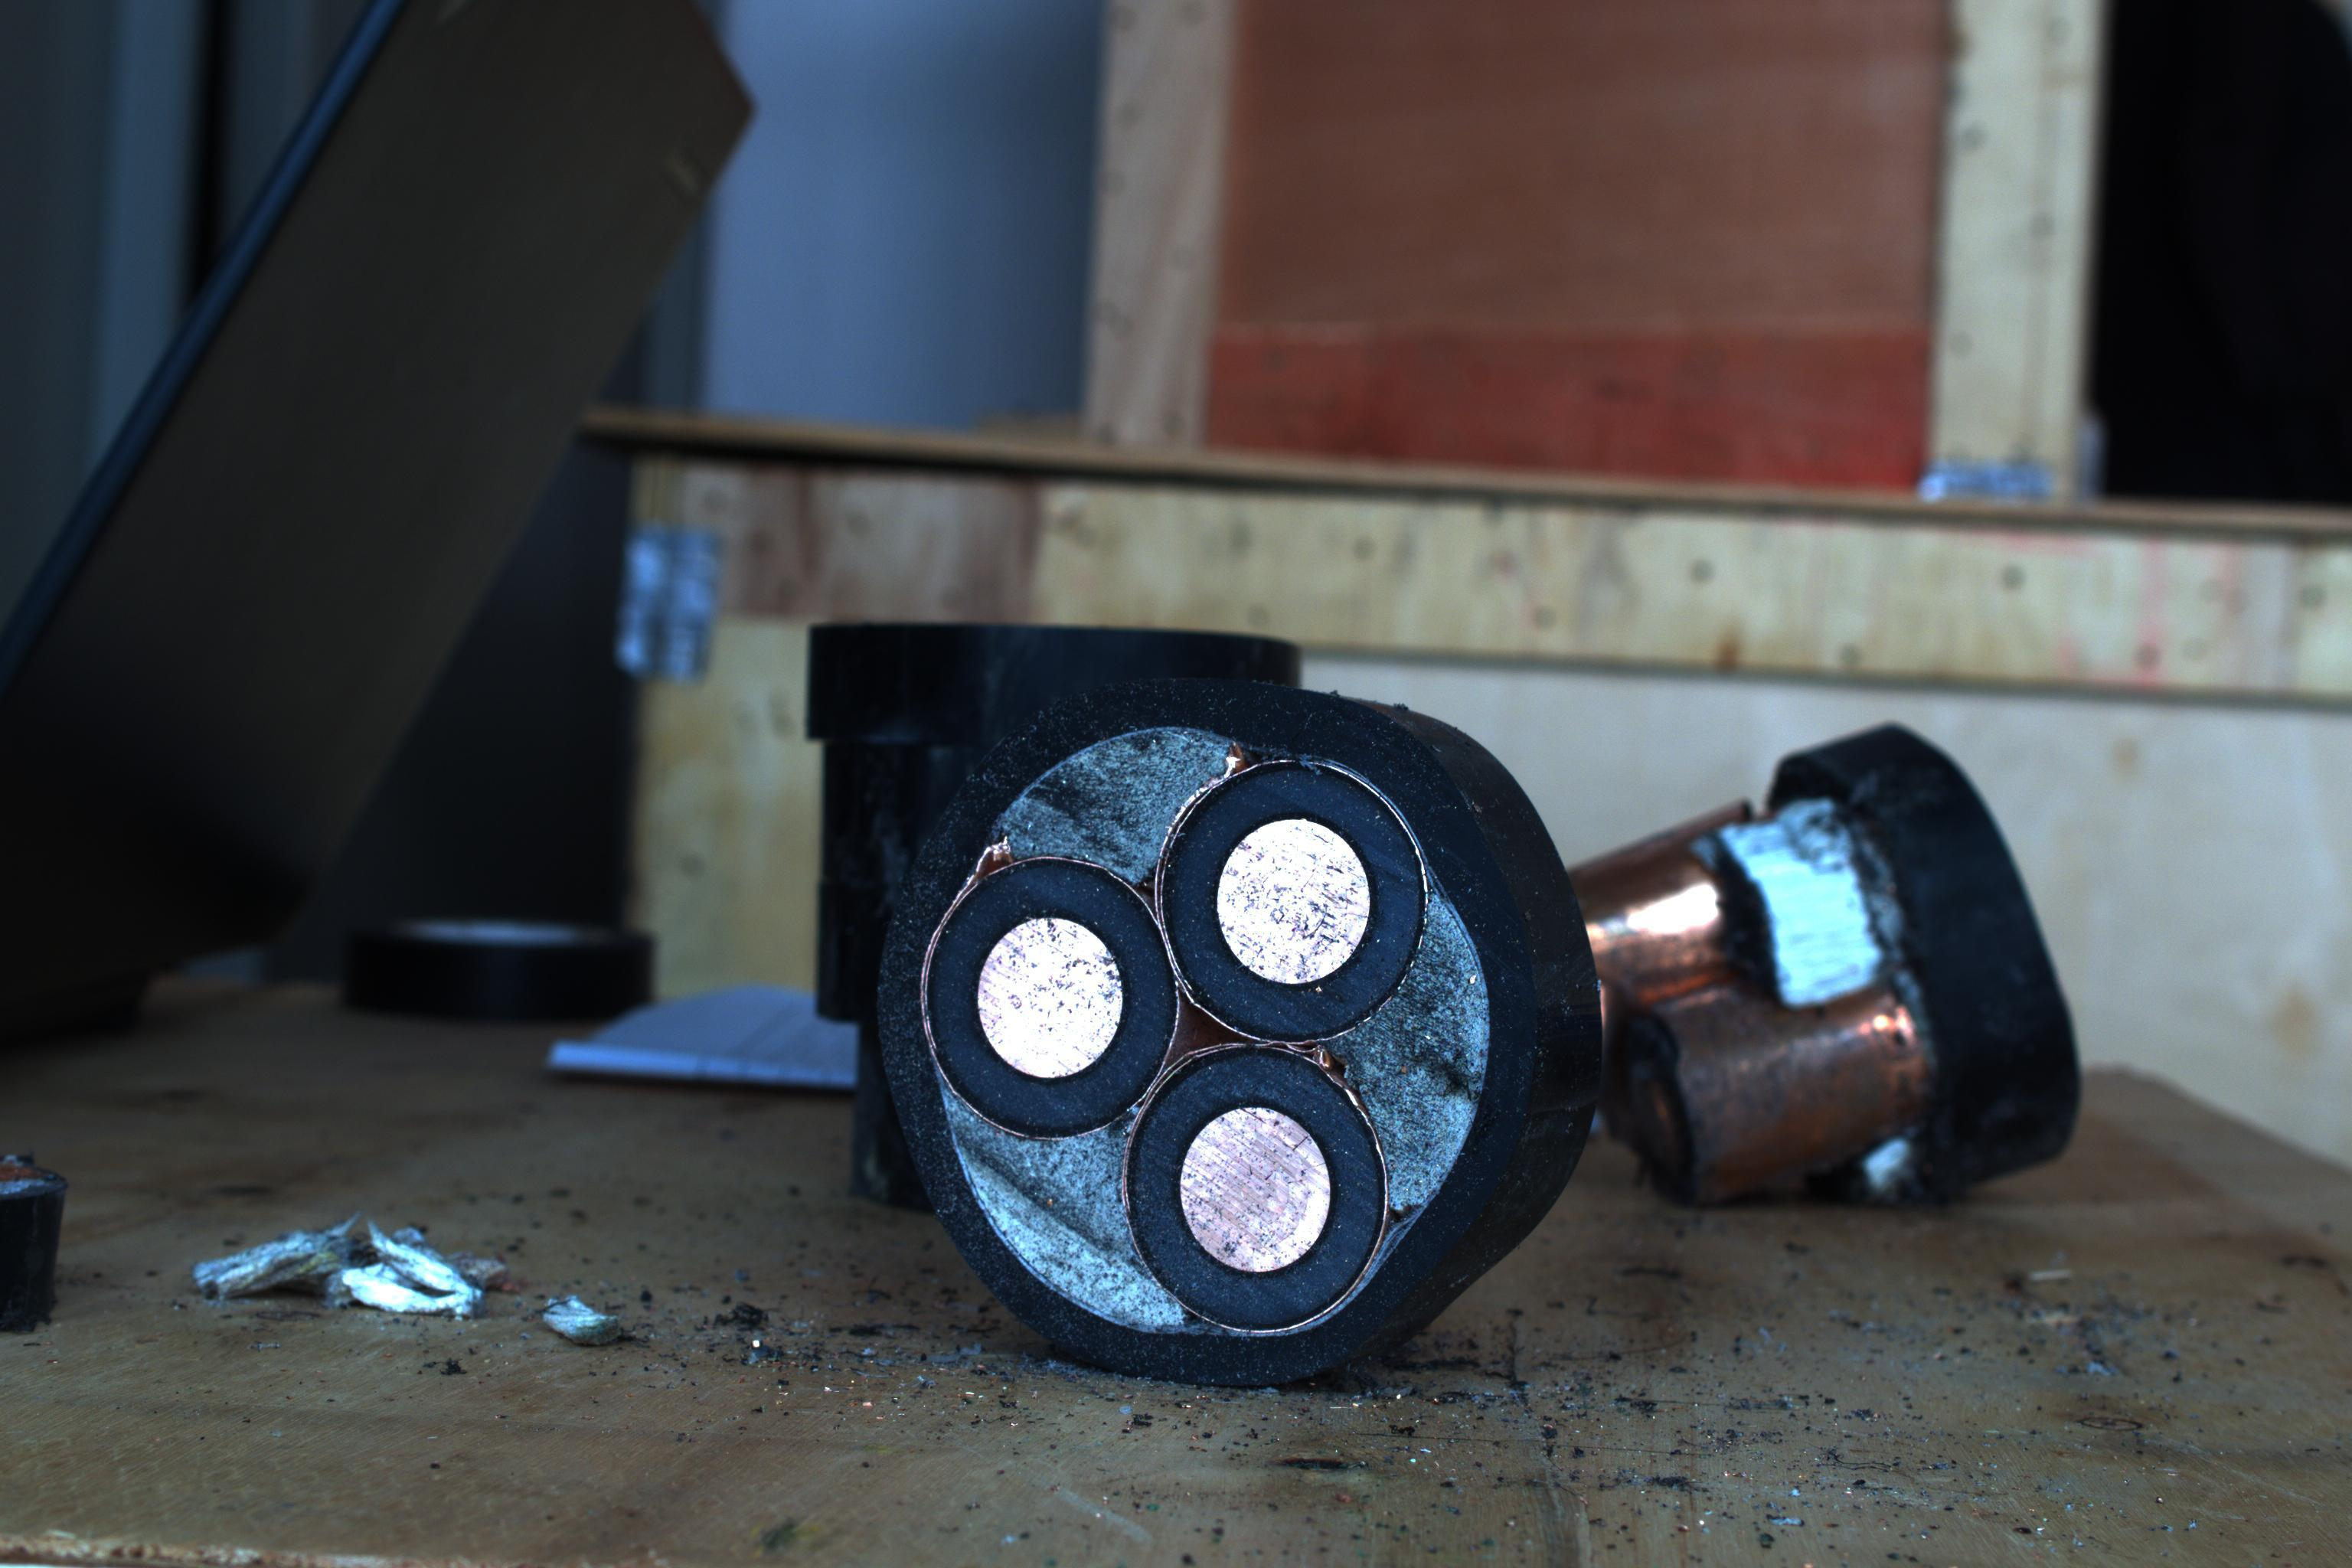ZA_YJV_8.7_10kV_3x240: (887, 688, 1500, 1354)
